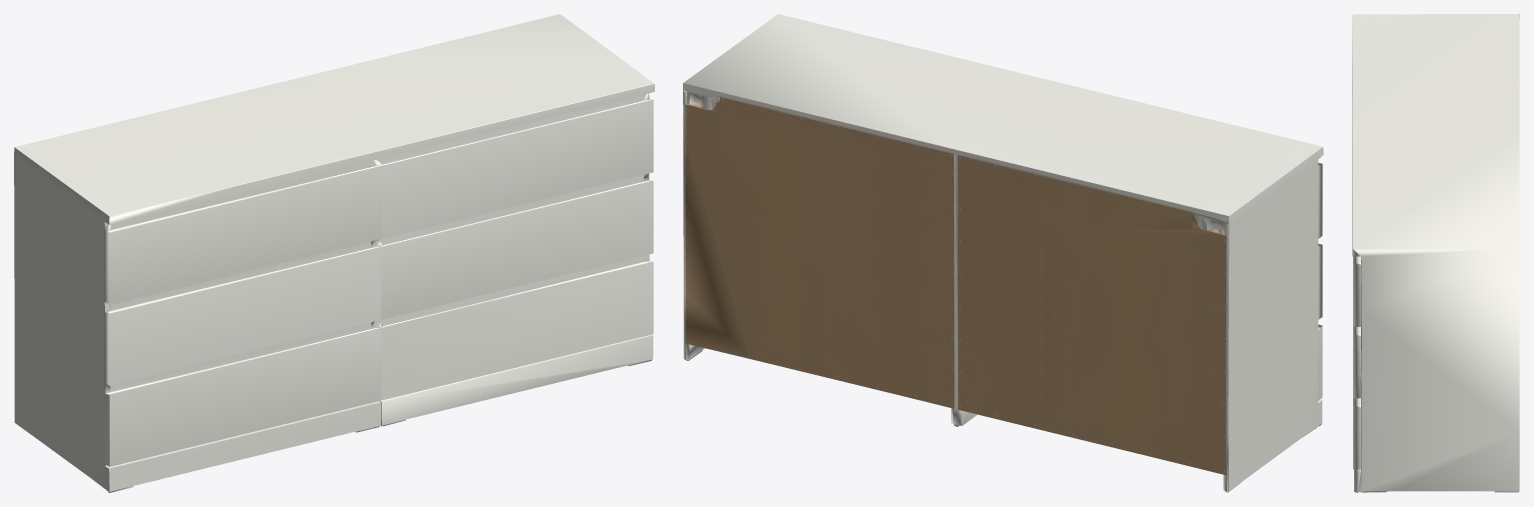
The model's file is ikea-malm-comoda-6-cajones-blanco-demo.glb.
3 renders of one model, left to right at view 1: azimuth 30°, elevation 25°; view 2: azimuth 150°, elevation 25°; view 3: azimuth 270°, elevation 25°, orthographic. The views are drawn at different scales.
Parts seen in each view (by area): view 1: ProcessedMeshNode; view 2: ProcessedMeshNode; view 3: ProcessedMeshNode.
Boxes of the visible parts, bbox=[...] form: ProcessedMeshNode: bbox=[14, 14, 654, 492]; ProcessedMeshNode: bbox=[683, 14, 1323, 492]; ProcessedMeshNode: bbox=[1352, 14, 1519, 492].
Size of the model in its own units: 1.6 by 0.7801 by 0.4832.
1 material, 1 textured.
